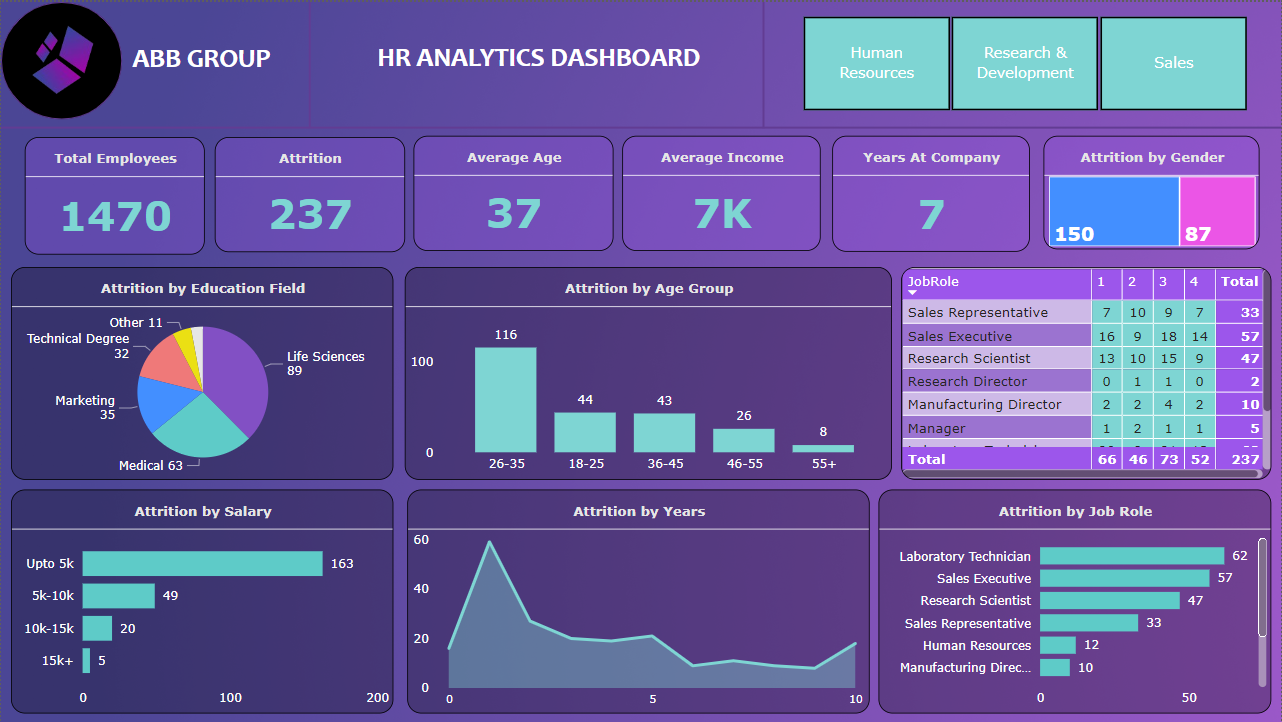

What the dashboard file says about the page in this screenshot:
{"tool":"powerbi","page":{"name":"Page 1","canvas":[1280,720],"ordinal":0},"visuals":[{"type":"card","title":"Total Employees","fields":{"Values":["Count(HR_Analytics.EmpID)"]},"box":[24.3,134.5,180,117.5],"z":0},{"type":"card","title":"Attrition","fields":{"Values":["Sum(HR_Analytics.Attrition)"]},"box":[214.3,134.5,190,115],"z":1000},{"type":"card","title":"Average Age","fields":{"Values":["Avg(HR_Analytics.Age)"]},"box":[413,133.2,200,115],"z":2000},{"type":"card","title":"Average Income","fields":{"Values":["Avg(HR_Analytics.MonthlyIncome)"]},"box":[621.8,133.2,198.8,115],"z":3000},{"type":"card","title":"Years At Company","fields":{"Values":["Avg(HR_Analytics.YearsAtCompany)"]},"box":[831.8,133.2,197.5,116.2],"z":4000},{"type":"pieChart","title":"Attrition by Education Field","fields":{"Y":["Sum(HR_Analytics.Attrition)"],"Category":["HR_Analytics.EducationField"]},"box":[10,265,382.5,212.5],"z":5000},{"type":"columnChart","title":"Attrition by Age Group","fields":{"Y":["Sum(HR_Analytics.Attrition)"],"Category":["HR_Analytics.AgeGroup"]},"box":[403.8,265,487.5,212.5],"z":6000},{"type":"pivotTable","fields":{"Rows":["HR_Analytics.JobRole"],"Values":["Sum(HR_Analytics.Attrition)"],"Columns":["HR_Analytics.JobSatisfaction"]},"box":[900,265,370,212.5],"z":7000},{"type":"treemap","title":"Attrition by Gender","fields":{"Group":["HR_Analytics.Gender"],"Values":["Sum(HR_Analytics.Attrition)"]},"box":[1043,133.2,216.2,113.8],"z":8000},{"type":"barChart","title":"Attrition by Salary","fields":{"Y":["Sum(HR_Analytics.Attrition)"],"Category":["HR_Analytics.SalarySlab"]},"box":[10,487.5,382.5,223.8],"z":9000},{"type":"areaChart","title":"Attrition by Years","fields":{"Category":["HR_Analytics.YearsAtCompany"],"Y":["Sum(HR_Analytics.Attrition)"]},"box":[406.2,487.5,462.5,223.8],"z":10000},{"type":"clusteredBarChart","title":"Attrition by Job Role","fields":{"Category":["HR_Analytics.JobRole"],"Y":["Sum(HR_Analytics.Attrition)"]},"box":[877.5,487.5,392.5,223.8],"z":11000},{"type":"shape","box":[0,0,121.2,117.5],"z":12000},{"type":"image","box":[0,7.5,110,102.5],"z":13000},{"type":"textbox","box":[126.2,35,163.8,46.2],"z":14000},{"type":"textbox","box":[371.2,33.8,337.5,50],"z":14002},{"type":"shape","box":[0,117.5,1280,16.2],"z":14003},{"type":"shape","box":[158.8,0,300,126.2],"z":14004},{"type":"shape","box":[612.5,0,300,126.2],"z":14005},{"type":"slicer","fields":{"Values":["HR_Analytics.Department"]},"box":[776.2,7.5,493.8,107.5],"z":14006}]}

Visuals, with their boxes in screenshot pixels (x1, y1, x2, y2), scaled from the page's 1280x720 canvas onto the 1282x722 screenshot:
"Total Employees" card: region(24, 135, 205, 253)
"Attrition" card: region(215, 135, 405, 250)
"Average Age" card: region(414, 134, 614, 249)
"Average Income" card: region(623, 134, 822, 249)
"Years At Company" card: region(833, 134, 1031, 250)
"Attrition by Education Field" pieChart: region(10, 266, 393, 479)
"Attrition by Age Group" columnChart: region(404, 266, 893, 479)
pivotTable - HR_Analytics.JobRole x Sum(HR_Analytics.Attrition): region(901, 266, 1272, 479)
"Attrition by Gender" treemap: region(1045, 134, 1261, 248)
"Attrition by Salary" barChart: region(10, 489, 393, 713)
"Attrition by Years" areaChart: region(407, 489, 870, 713)
"Attrition by Job Role" clusteredBarChart: region(879, 489, 1272, 713)
shape: region(0, 0, 121, 118)
image: region(0, 8, 110, 110)
textbox: region(126, 35, 290, 81)
textbox: region(372, 34, 710, 84)
shape: region(0, 118, 1281, 134)
shape: region(159, 0, 460, 127)
shape: region(613, 0, 914, 127)
slicer - HR_Analytics.Department: region(777, 8, 1272, 115)
